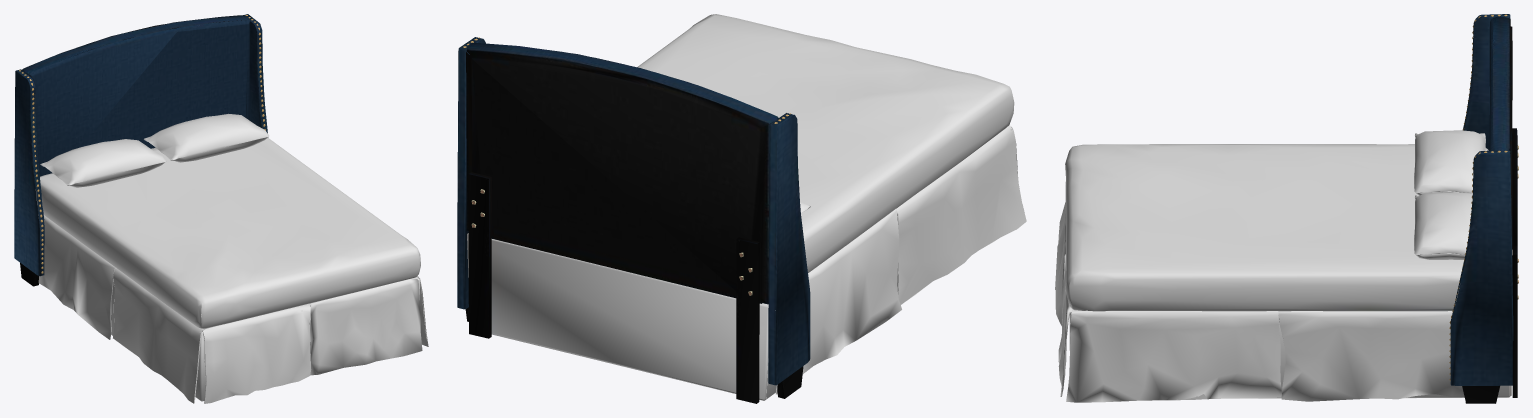
3 renders of one model, left to right at view 1: azimuth 30°, elevation 25°; view 2: azimuth 150°, elevation 25°; view 3: azimuth 270°, elevation 25°, orthographic. The views are drawn at different scales.
Parts seen in each view (by area): view 1: visual_RootNode; view 2: visual_RootNode; view 3: visual_RootNode.
Part boxes in pixels (box(x1,y1,x2,y2)): visual_RootNode: box(14, 14, 428, 403); visual_RootNode: box(457, 14, 1026, 403); visual_RootNode: box(1055, 14, 1518, 403).
Size of the model in its own units: 1.6 by 2.22 by 1.4.
1 material, 1 textured.
